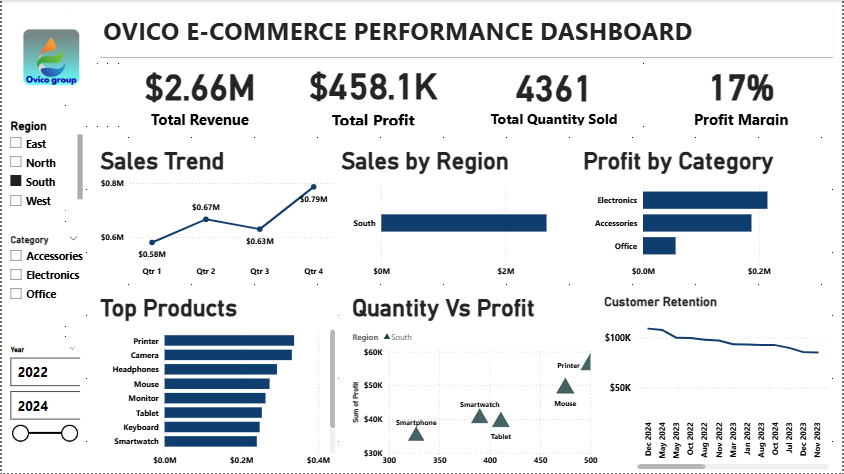

What the dashboard file says about the page in this screenshot:
{"tool":"powerbi","page":{"name":"Executive Overview","canvas":[1280,720],"ordinal":0},"visuals":[{"type":"card","fields":{"Values":["SalesData.Total Revenue"]},"box":[179.7,87.3,243.6,109.2],"z":0},{"type":"card","fields":{"Values":["SalesData.Total Profit"]},"box":[423.3,87.3,283.9,109.2],"z":1000},{"type":"card","fields":{"Values":["SalesData.Total Quantity Sold"]},"box":[717.3,87.3,246.9,109.2],"z":2000},{"type":"card","fields":{"Values":["SalesData.Profit Margin","select"]},"box":[986,87.3,280.5,109.2],"z":3000},{"type":"lineChart","title":"Sales Trend","fields":{"Y":["Sum(SalesData.Sales)"],"Category":["SalesData.Order Date.Variation.Date Hierarchy.Quarter","SalesData.Order Date.Variation.Date Hierarchy.Month","SalesData.Order Date.Variation.Date Hierarchy.Day"]},"box":[144,224,368,208],"z":4000},{"type":"clusteredBarChart","title":"Sales by Region","fields":{"Category":["SalesData.Region"],"Y":["Sum(SalesData.Sales)"]},"box":[512,224,368,208],"z":5000},{"type":"clusteredBarChart","title":"Profit by Category","fields":{"Category":["SalesData.Category"],"Y":["Sum(SalesData.Profit)"]},"box":[880,224,384,208],"z":6000},{"type":"clusteredBarChart","title":"Top Products","fields":{"Category":["SalesData.Product Name"],"Y":["Sum(SalesData.Sales)"]},"box":[144,448,368,272],"z":7000},{"type":"scatterChart","title":"Quantity Vs Profit","fields":{"X":["Sum(SalesData.Quantity)"],"Y":["Sum(SalesData.Profit)"],"Series":["SalesData.Region"],"Size":["SalesData.Total Revenue"],"Category":["SalesData.Product Name"]},"box":[528,448,384,272],"z":8000},{"type":"slicer","fields":{"Values":["SalesData.Region"]},"box":[0,176,128,144],"z":9000},{"type":"slicer","fields":{"Values":["SalesData.Category"]},"box":[0,352,128,144],"z":10000},{"type":"slicer","fields":{"Values":["SalesData.Year"]},"box":[0,520.7,124.3,186.5],"z":11000},{"type":"shape","box":[149.5,15.1,1117.1,72.2],"z":12000},{"type":"image","box":[0,0,149.5,174.7],"z":13000},{"type":"textbox","box":[149.5,15.1,1117.1,72.2],"z":14000},{"type":"lineChart","title":"Customer Retention","fields":{"Category":["SalesData.MonthYear"],"Y":["Sum(SalesData.Sales)"]},"box":[912,448,352,272],"z":15000}]}

Visuals, with their boxes in screenshot pixels (x1, y1, x2, y2), scaled from the page's 1280x720 canvas onto the 844x474 screenshot:
card - SalesData.Total Revenue: left=118, top=57, right=279, bottom=129
card - SalesData.Total Profit: left=279, top=57, right=466, bottom=129
card - SalesData.Total Quantity Sold: left=473, top=57, right=636, bottom=129
card - SalesData.Profit Margin x select: left=650, top=57, right=835, bottom=129
"Sales Trend" lineChart: left=95, top=147, right=338, bottom=284
"Sales by Region" clusteredBarChart: left=338, top=147, right=580, bottom=284
"Profit by Category" clusteredBarChart: left=580, top=147, right=833, bottom=284
"Top Products" clusteredBarChart: left=95, top=295, right=338, bottom=473
"Quantity Vs Profit" scatterChart: left=348, top=295, right=601, bottom=473
slicer - SalesData.Region: left=0, top=116, right=84, bottom=211
slicer - SalesData.Category: left=0, top=232, right=84, bottom=327
slicer - SalesData.Year: left=0, top=343, right=82, bottom=466
shape: left=99, top=10, right=835, bottom=57
image: left=0, top=0, right=99, bottom=115
textbox: left=99, top=10, right=835, bottom=57
"Customer Retention" lineChart: left=601, top=295, right=833, bottom=473
